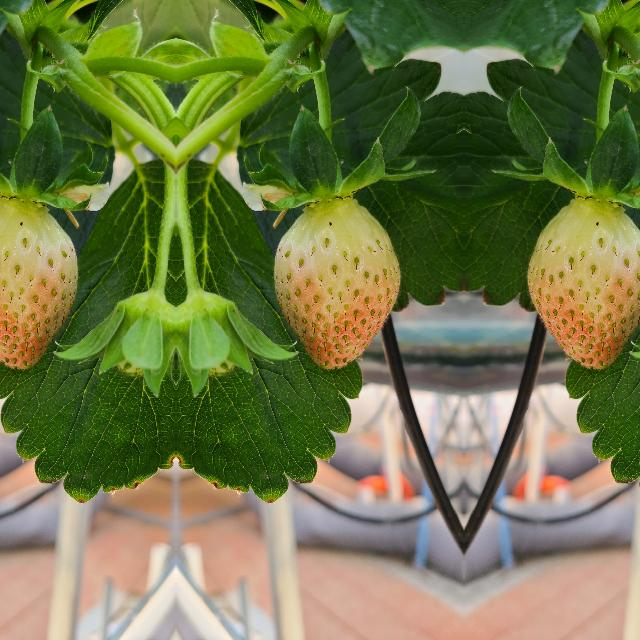Health_50: (271, 198, 401, 372), (525, 198, 640, 371), (0, 198, 79, 371)
